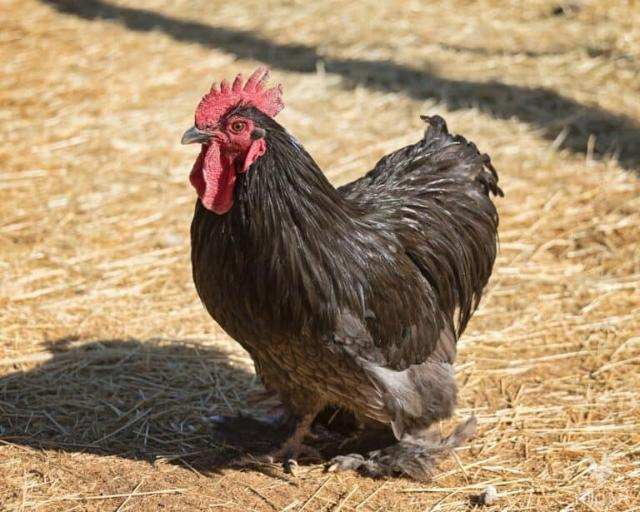Chicken: (180, 66, 506, 481)
